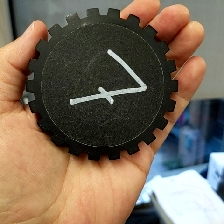gear: (24, 6, 180, 162)
